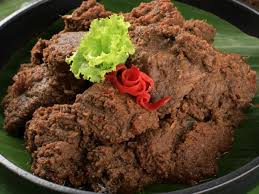Rendang: (6, 3, 259, 189)
